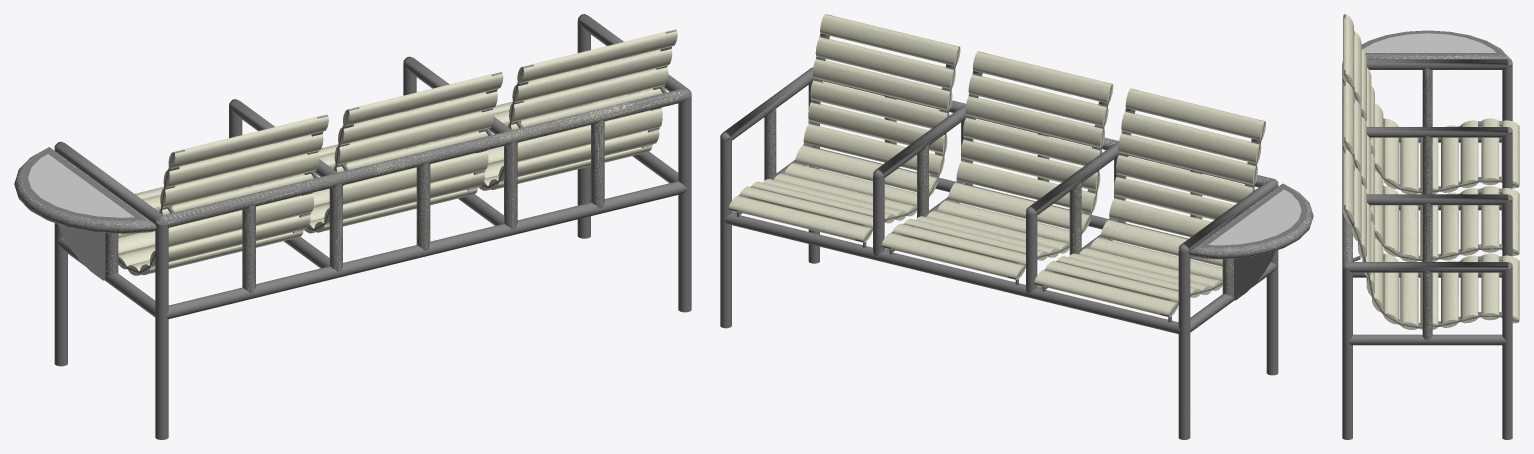
The picture shows the model from 3 angles, left to right: view 1: azimuth 30°, elevation 25°; view 2: azimuth 150°, elevation 25°; view 3: azimuth 270°, elevation 25°; orthographic projection. The views are drawn at different scales.
Visible parts, largest first — view 1: mesh7_mesh7-geometry, mesh3_mesh3-geometry, mesh1_mesh1-geometry, mesh74_mesh74-geometry, mesh73_mesh73-geometry, mesh4_mesh4-geometry, mesh72_mesh72-geometry, mesh8_mesh8-geometry, mesh75_mesh75-geometry, mesh2_mesh2-geometry; view 2: mesh7_mesh7-geometry, mesh1_mesh1-geometry, mesh3_mesh3-geometry, mesh73_mesh73-geometry, mesh72_mesh72-geometry, mesh4_mesh4-geometry, mesh8_mesh8-geometry, mesh2_mesh2-geometry, mesh75_mesh75-geometry, mesh74_mesh74-geometry; view 3: mesh7_mesh7-geometry, mesh1_mesh1-geometry, mesh72_mesh72-geometry, mesh73_mesh73-geometry, mesh4_mesh4-geometry, mesh3_mesh3-geometry, mesh8_mesh8-geometry, mesh2_mesh2-geometry, mesh74_mesh74-geometry.
Part boxes in pixels (<box>): mesh7_mesh7-geometry: <box>118,29,677,275</box>; mesh3_mesh3-geometry: <box>56,152,686,318</box>; mesh1_mesh1-geometry: <box>54,22,691,439</box>; mesh74_mesh74-geometry: <box>162,88,688,227</box>; mesh73_mesh73-geometry: <box>14,147,156,233</box>; mesh4_mesh4-geometry: <box>105,91,640,293</box>; mesh72_mesh72-geometry: <box>54,56,513,225</box>; mesh8_mesh8-geometry: <box>118,29,676,273</box>; mesh75_mesh75-geometry: <box>57,224,105,280</box>; mesh2_mesh2-geometry: <box>577,14,691,97</box>; mesh7_mesh7-geometry: <box>728,14,1265,317</box>; mesh1_mesh1-geometry: <box>720,82,1278,439</box>; mesh3_mesh3-geometry: <box>724,148,1276,333</box>; mesh73_mesh73-geometry: <box>1189,183,1313,259</box>; mesh72_mesh72-geometry: <box>873,105,1278,251</box>; mesh4_mesh4-geometry: <box>764,95,1233,297</box>; mesh8_mesh8-geometry: <box>728,14,1265,316</box>; mesh2_mesh2-geometry: <box>720,67,813,140</box>; mesh75_mesh75-geometry: <box>1234,251,1275,300</box>; mesh74_mesh74-geometry: <box>823,80,1273,187</box>; mesh7_mesh7-geometry: <box>1343,14,1519,329</box>; mesh1_mesh1-geometry: <box>1342,65,1512,439</box>; mesh72_mesh72-geometry: <box>1342,59,1512,205</box>; mesh73_mesh73-geometry: <box>1361,30,1511,60</box>; mesh4_mesh4-geometry: <box>1422,68,1432,340</box>; mesh3_mesh3-geometry: <box>1349,137,1505,345</box>; mesh8_mesh8-geometry: <box>1344,14,1519,328</box>; mesh2_mesh2-geometry: <box>1342,262,1512,272</box>; mesh74_mesh74-geometry: <box>1342,62,1352,266</box>.
Bounding box in the file's own units: 0.8784 × 0.3891 × 0.2775.
